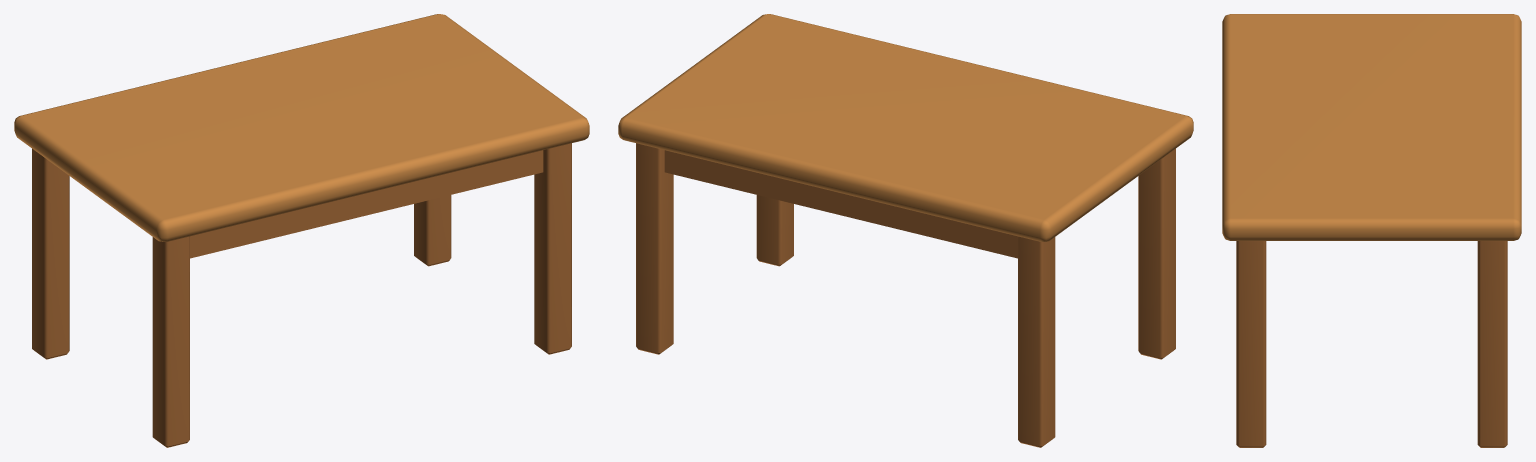
The model's file is Table.fbx.
3 views of the same model, side by side, from view 1: azimuth 30°, elevation 25°; view 2: azimuth 150°, elevation 25°; view 3: azimuth 270°, elevation 25° (orthographic).
Visible parts, largest first — view 1: Table; view 2: Table; view 3: Table.
Part boxes in pixels (<box>): Table: <box>14,14,589,447</box>; Table: <box>618,14,1193,447</box>; Table: <box>1222,14,1521,447</box>.
Bounding box in the file's own units: 6 × 3.1 × 3.6.
1 material, 1 textured.
